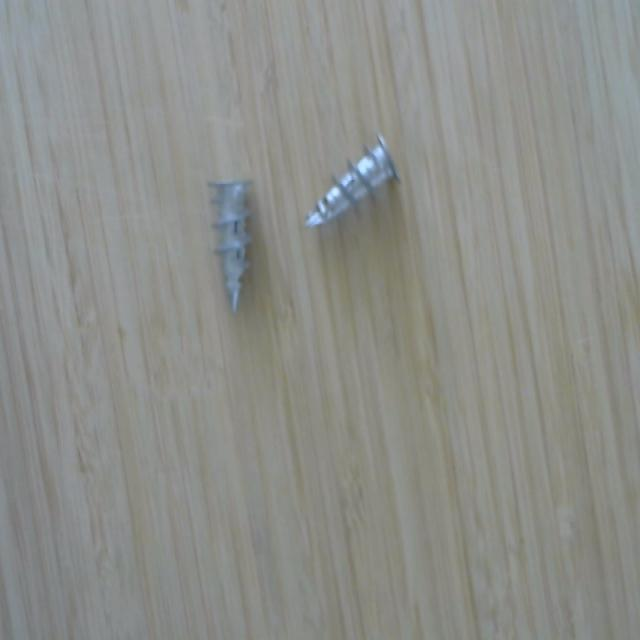Short screw: (296, 122, 410, 243), (205, 170, 260, 317)
